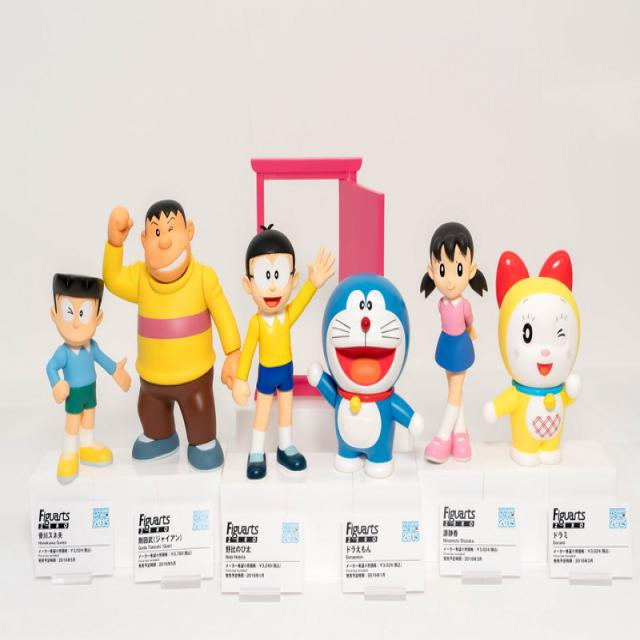doraemon: (314, 257, 422, 429)
jaian: (138, 194, 202, 303)
nobita: (240, 216, 311, 333)
shizuka: (412, 211, 498, 330)
suneo: (38, 265, 111, 363)
